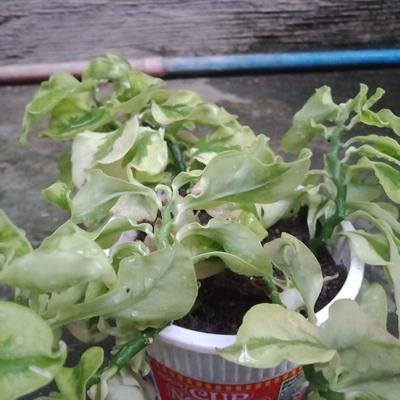Pothos plant: (45, 84, 398, 385)
